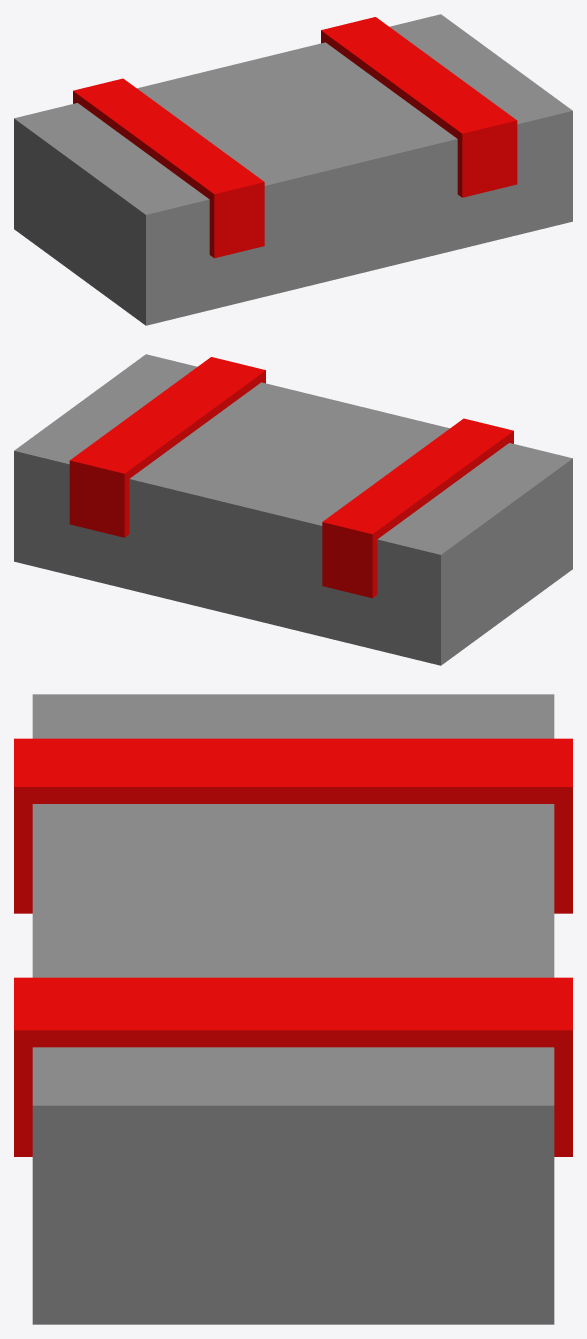
Rendered from Caisse.fbx.
3 renders of one model, top to bottom at view 1: azimuth 30°, elevation 25°; view 2: azimuth 150°, elevation 25°; view 3: azimuth 270°, elevation 25°, orthographic. The views are drawn at different scales.
Visible parts, largest first — view 1: Caisse; view 2: Caisse; view 3: Caisse.
Boxes of the visible parts, x1,y1,x2,y2 form: Caisse: (14,14,572,325); Caisse: (14,354,572,665); Caisse: (14,694,572,1324).
Size of the model in its own units: 127 by 33.94 by 72.88.
